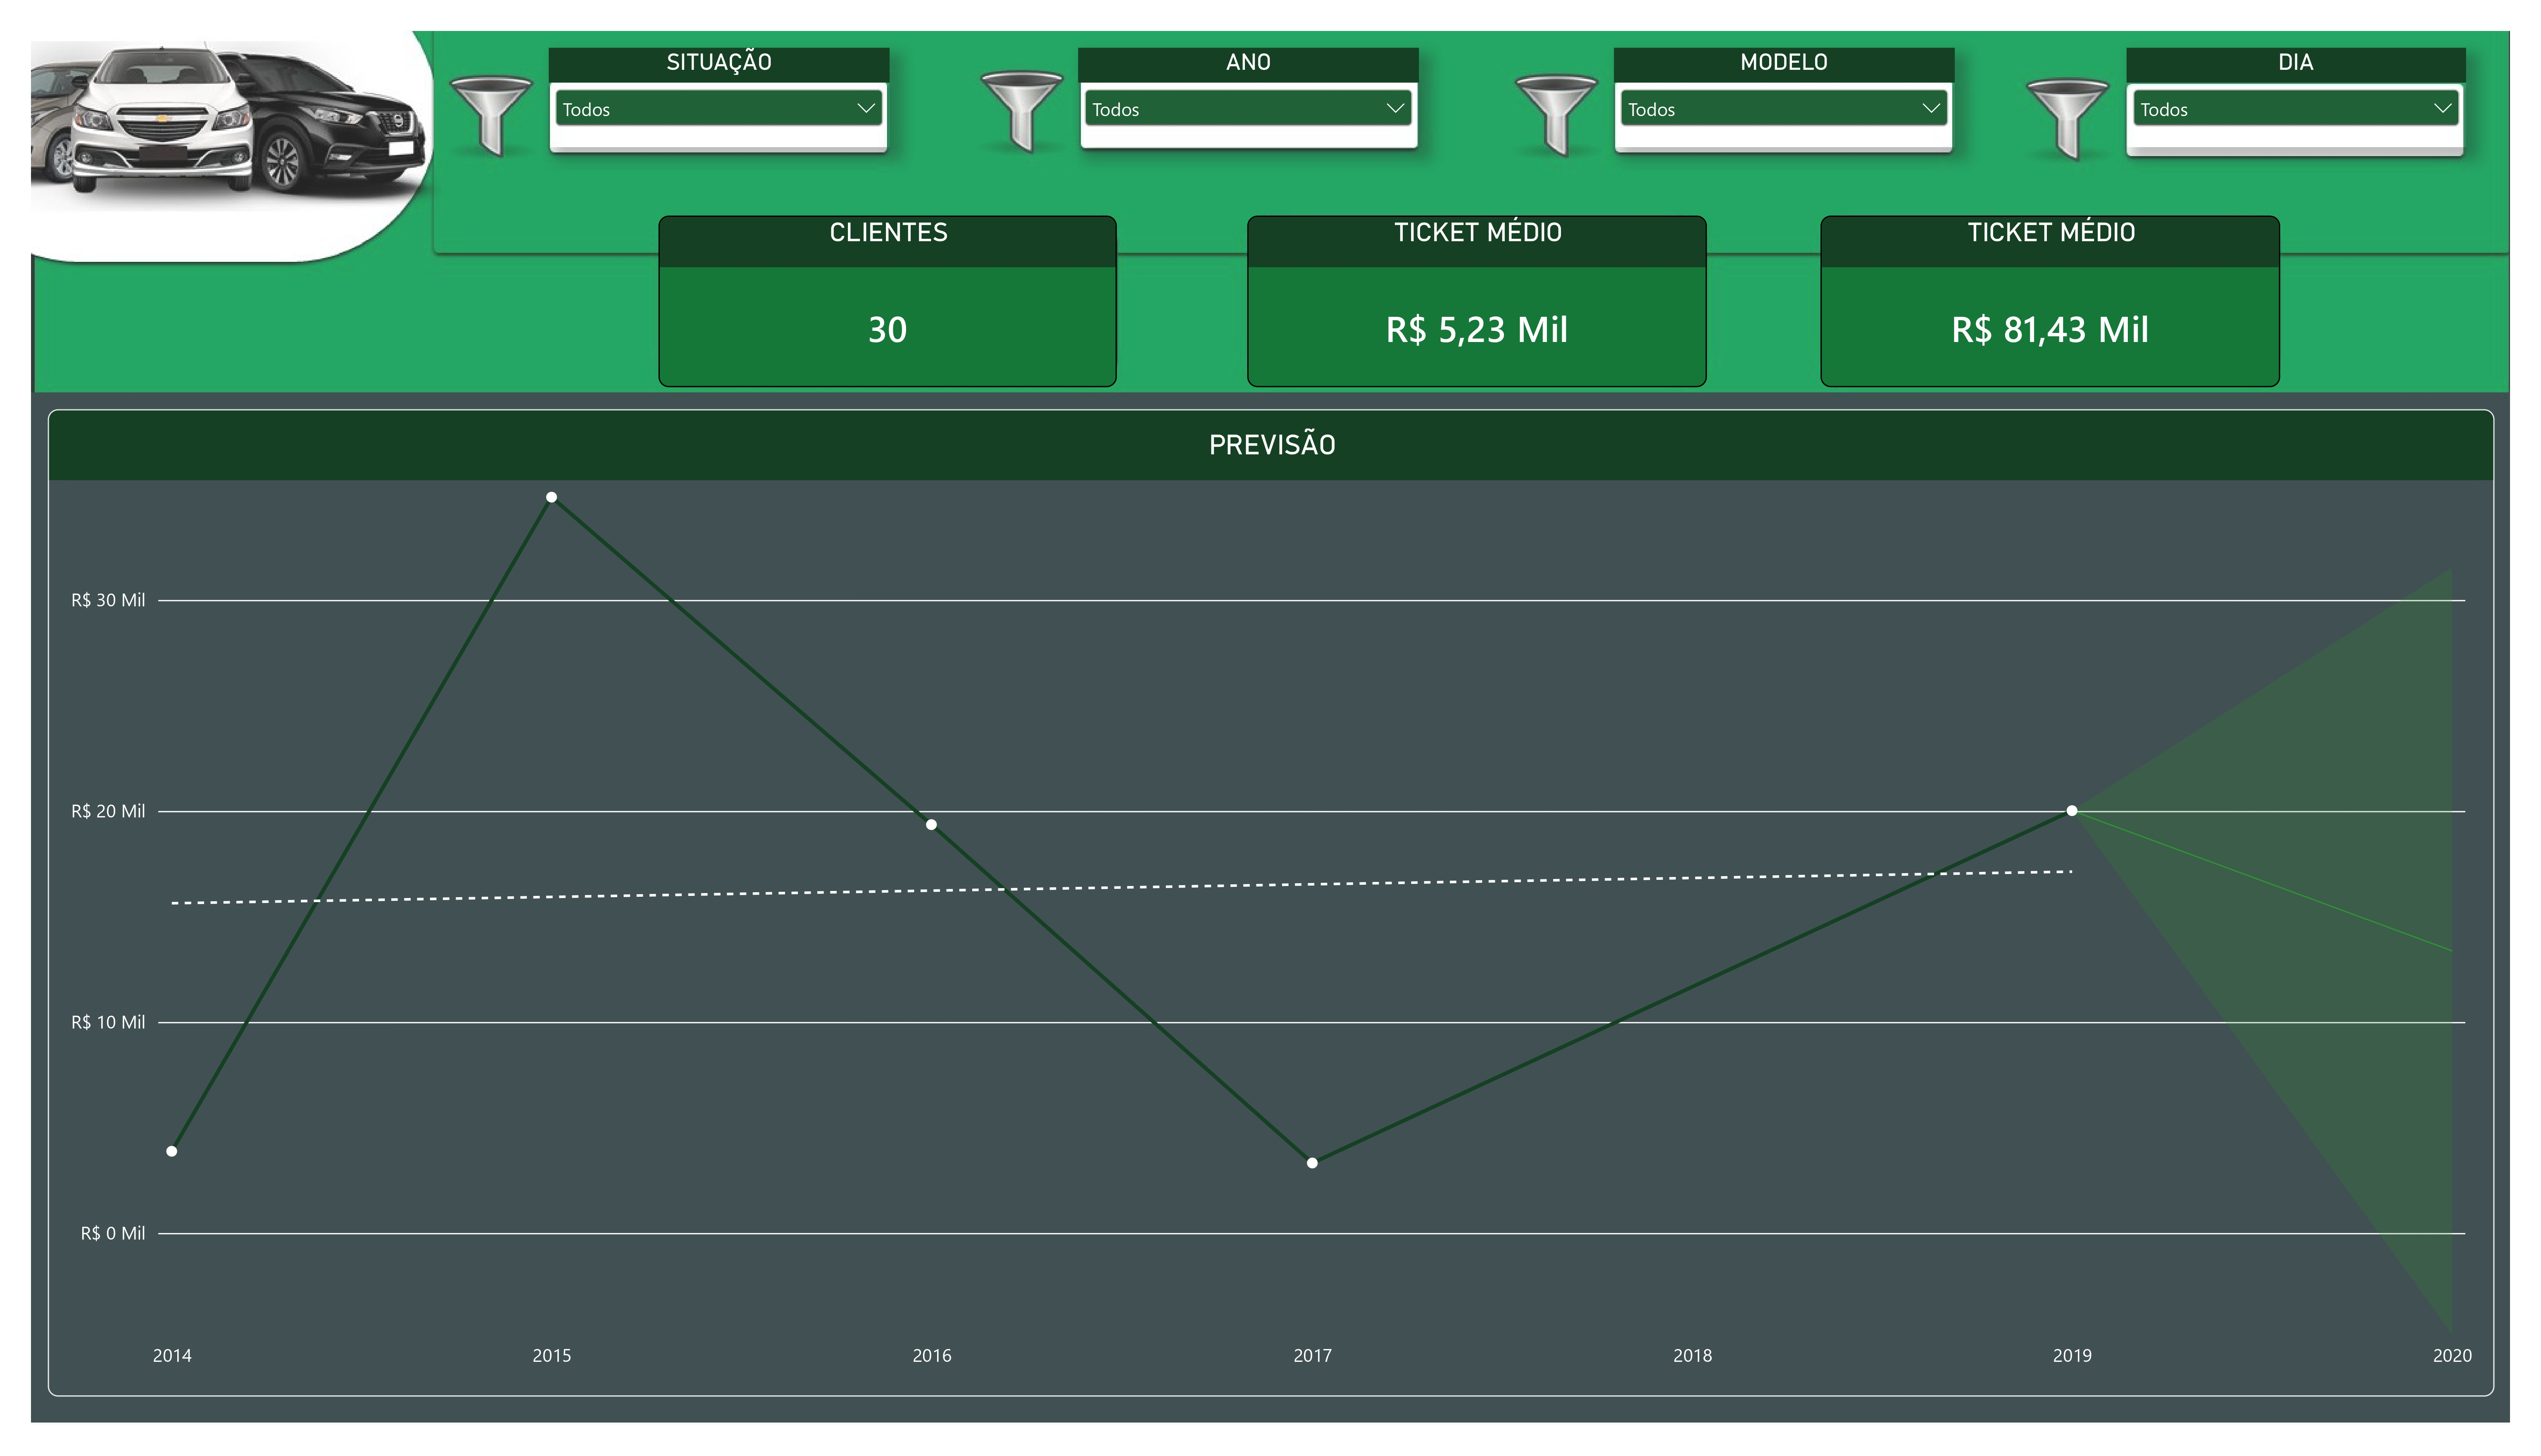

The dashboard page shown, as its layout file describes it:
{"tool":"powerbi","page":{"name":"PREVISÃO","canvas":[1920,1080],"ordinal":3},"visuals":[{"type":"slicer","title":"SITUAÇÃO","fields":{"Values":["tb_km.SITUAÇÃO CADASTRAL"]},"box":[401.2,12.5,263.8,77.5],"z":0},{"type":"slicer","title":"ANO","fields":{"Values":["tb_km.Ano"]},"box":[811.2,12.5,263.8,77.5],"z":1000},{"type":"slicer","title":"MODELO","fields":{"Values":["tb_km.MODELO"]},"box":[1226.2,12.5,263.8,77.5],"z":2000},{"type":"slicer","title":"DIA","fields":{"Values":["tb_km.DATA.Variation.Hierarquia de datas.Dia"]},"box":[1622.5,12.5,263.8,77.5],"z":3000},{"type":"cardVisual","title":"CLIENTES","fields":{"Data":["tb_km.Total de clientes"]},"box":[486.2,142.5,355,133.8],"z":4000},{"type":"cardVisual","title":"TICKET MÉDIO","fields":{"Data":["Medidas.TCKET MEDIO SALARIO"]},"box":[942,142.5,356,133.8],"z":6000},{"type":"cardVisual","title":"TICKET MÉDIO","fields":{"Data":["Sum(tb_km.TOTAL VENDA)"]},"box":[1386.2,142.5,356,133.8],"z":6001},{"type":"lineChart","title":"PREVISÃO","fields":{"Category":["tb_km.DATA.Variation.Hierarquia de datas.Ano","tb_km.DATA.Variation.Hierarquia de datas.Trimestre","tb_km.DATA.Variation.Hierarquia de datas.Mês","tb_km.DATA.Variation.Hierarquia de datas.Dia"],"Y":["Sum(tb_km.TOTAL VENDA)"]},"box":[12.5,292.5,1895,765],"z":6002}]}

Visuals, with their boxes in screenshot pixels (x1, y1, x2, y2):
"SITUAÇÃO" slicer: l=537, t=43, r=881, b=144
"ANO" slicer: l=1072, t=43, r=1416, b=144
"MODELO" slicer: l=1613, t=43, r=1958, b=144
"DIA" slicer: l=2131, t=43, r=2475, b=144
"CLIENTES" cardVisual: l=648, t=212, r=1111, b=387
"TICKET MÉDIO" cardVisual: l=1243, t=212, r=1707, b=387
"TICKET MÉDIO" cardVisual: l=1822, t=212, r=2287, b=387
"PREVISÃO" lineChart: l=30, t=408, r=2503, b=1406
